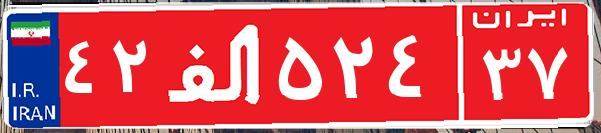2: (330, 28, 385, 110), (110, 28, 158, 105)
3: (475, 38, 525, 113)
4: (385, 28, 445, 110), (57, 26, 110, 107)
5: (273, 28, 330, 110)
7: (525, 38, 570, 115)
الف: (158, 15, 273, 115)
